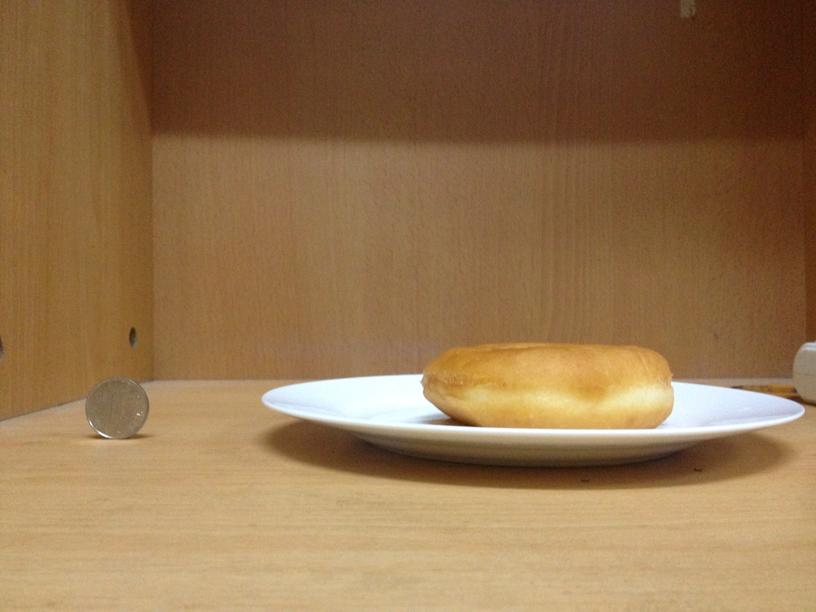coin: (84, 376, 148, 439)
doughnut: (423, 339, 672, 427)
